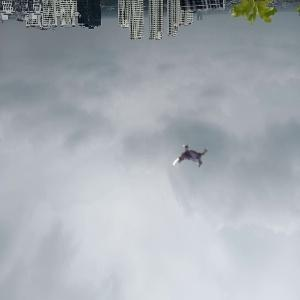drone: (173, 139, 212, 178)
